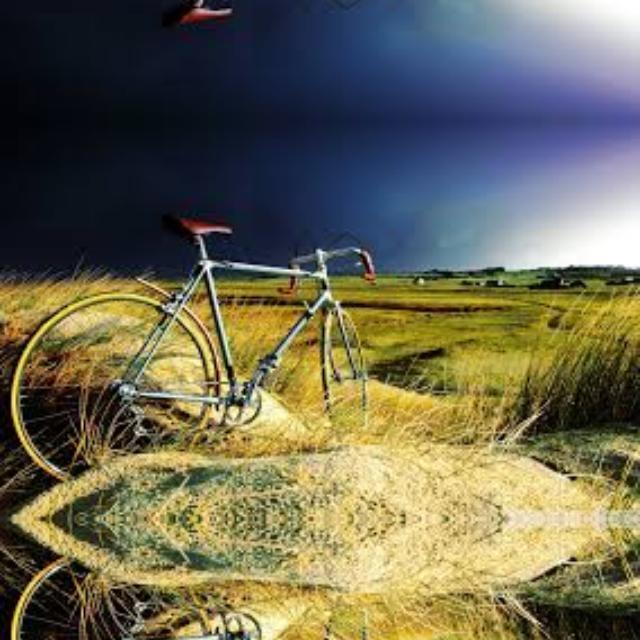obstacle: (17, 193, 399, 492), (17, 544, 399, 640), (17, 0, 399, 46)
